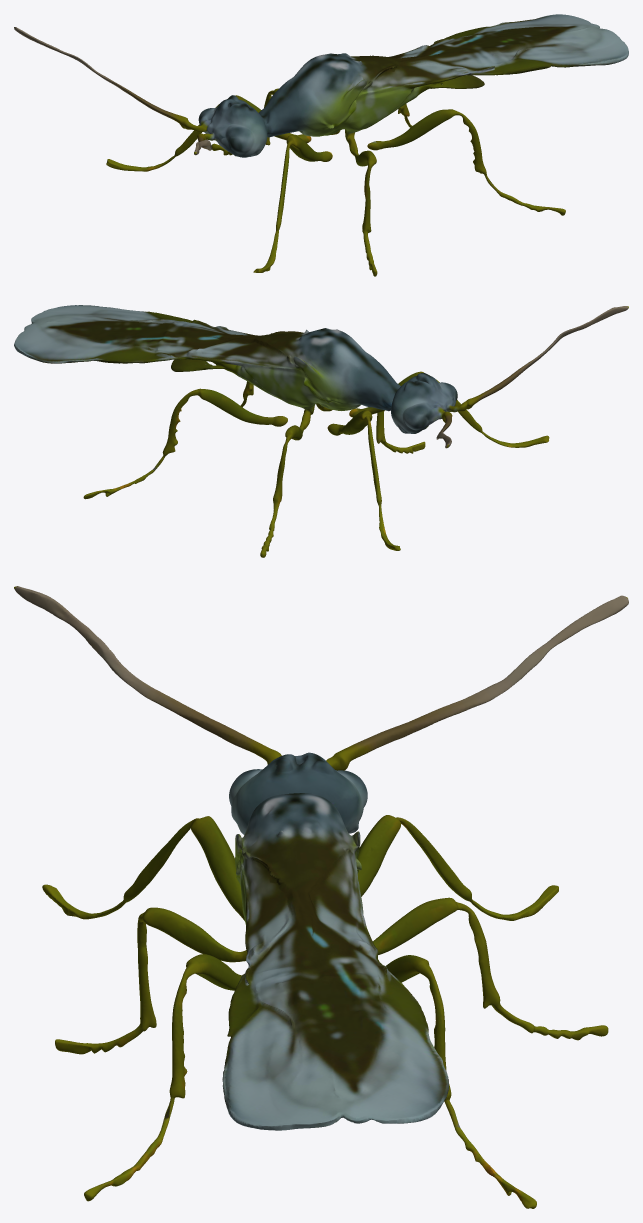
Rendered from MoscaOlive.fbx.
The picture shows the model from 3 angles, top to bottom: view 1: azimuth 30°, elevation 25°; view 2: azimuth 150°, elevation 25°; view 3: azimuth 270°, elevation 25°; orthographic projection. The views are drawn at different scales.
Parts seen in each view (by area): view 1: tripo_node_726f851a; view 2: tripo_node_726f851a; view 3: tripo_node_726f851a.
Boxes of the visible parts, left/top/right/bottom form: tripo_node_726f851a: left=14, top=14, right=628, bottom=276; tripo_node_726f851a: left=14, top=305, right=628, bottom=557; tripo_node_726f851a: left=14, top=586, right=628, bottom=1208.
Bounding box in the file's own units: 1 × 0.3407 × 0.6189.
Materials: 1 (1 with a texture image).
